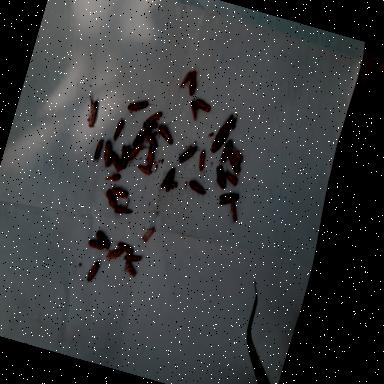abw: (138, 225, 156, 244)
pbw: (81, 92, 103, 130), (111, 194, 136, 225), (210, 158, 234, 190), (96, 182, 122, 211), (207, 126, 230, 156), (153, 119, 178, 146), (177, 142, 202, 168), (156, 164, 176, 195), (98, 140, 117, 172), (126, 136, 144, 168), (100, 244, 125, 264), (186, 66, 202, 97), (220, 164, 242, 186), (224, 152, 244, 176), (132, 124, 150, 150), (220, 112, 238, 138), (217, 190, 240, 210), (143, 108, 164, 129), (92, 230, 114, 250), (84, 260, 102, 284), (194, 149, 209, 177), (116, 144, 132, 170), (218, 138, 234, 164), (144, 144, 160, 170), (185, 178, 208, 196), (185, 98, 202, 122), (106, 152, 125, 173), (90, 139, 104, 167), (112, 118, 127, 144), (112, 240, 136, 256), (120, 260, 139, 280), (226, 201, 242, 224), (122, 250, 145, 266), (228, 147, 246, 165), (134, 160, 154, 176), (108, 186, 130, 200), (192, 98, 212, 113), (178, 70, 192, 91), (142, 133, 160, 149), (88, 238, 108, 252), (142, 118, 158, 134)
